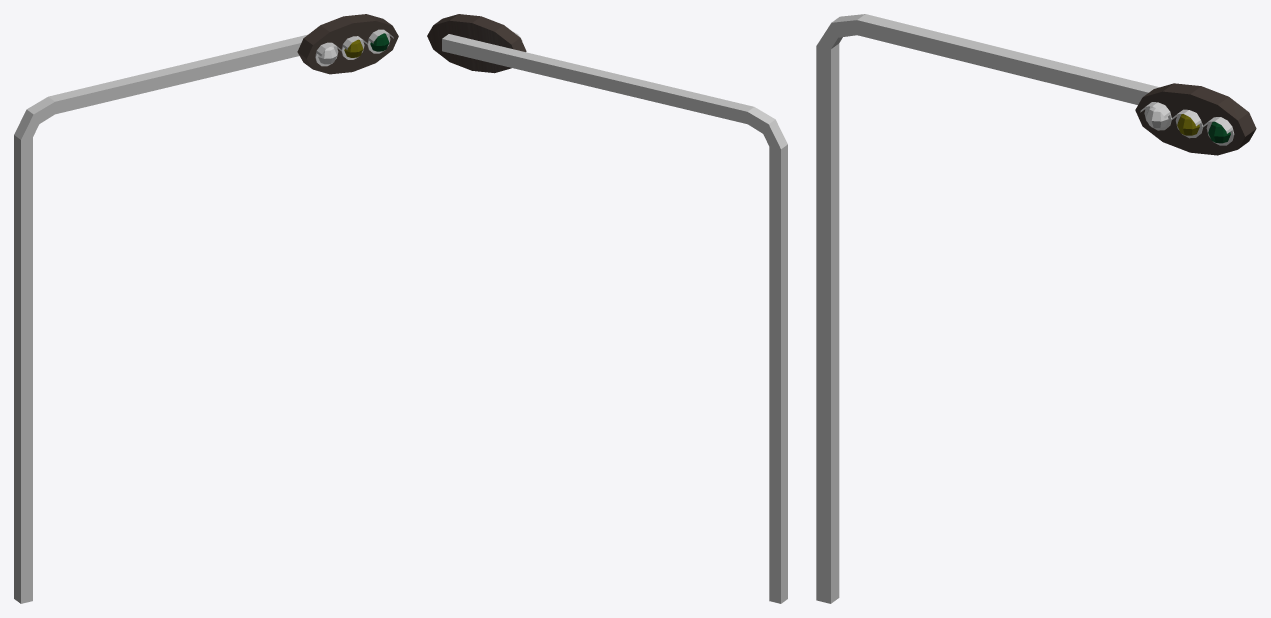
Rendered from Semaforo.fbx.
The picture shows the model from 3 angles, left to right: view 1: azimuth 30°, elevation 25°; view 2: azimuth 150°, elevation 25°; view 3: azimuth 330°, elevation 25°; orthographic projection. The views are drawn at different scales.
Visible parts, largest first — view 1: Semaforo; view 2: Semaforo; view 3: Semaforo.
Part boxes in pixels (x1=…): Semaforo: x1=14, y1=14, x2=398, y2=603; Semaforo: x1=427, y1=14, x2=787, y2=603; Semaforo: x1=816, y1=14, x2=1256, y2=603.
Bounding box in the file's own units: 334 × 441 × 35.08.
